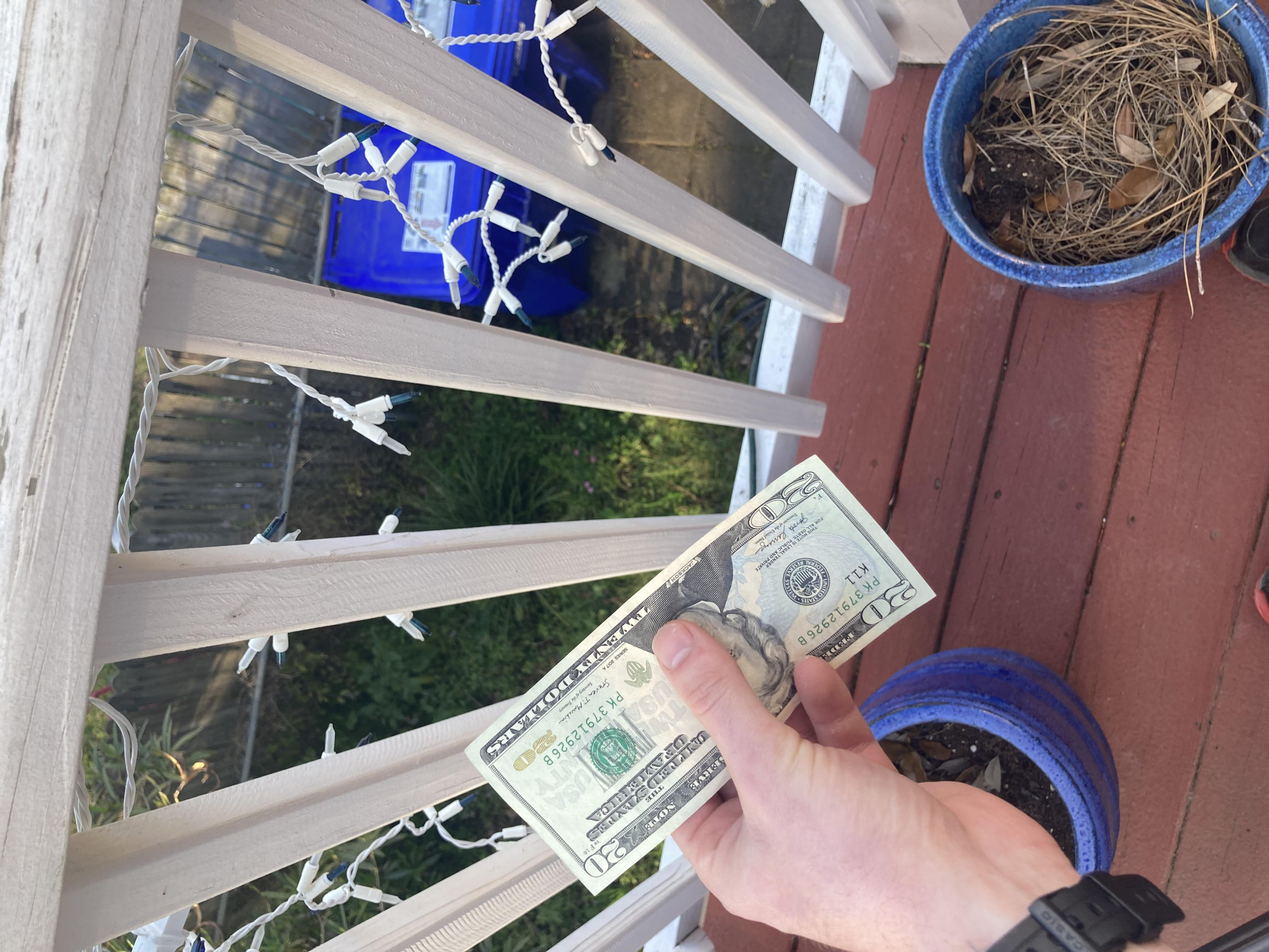twenty-front: (73, 346, 665, 706)
